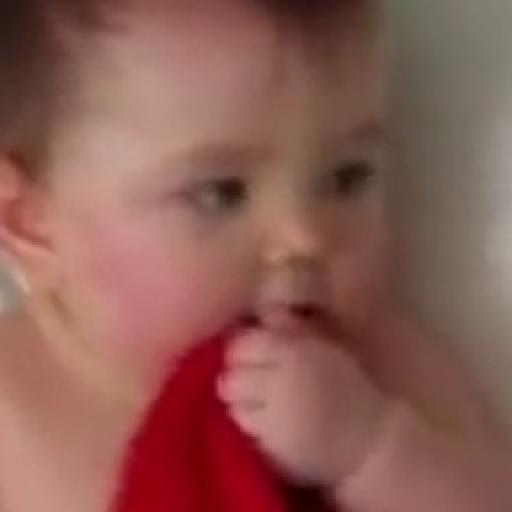Autism: (42, 29, 412, 459)
